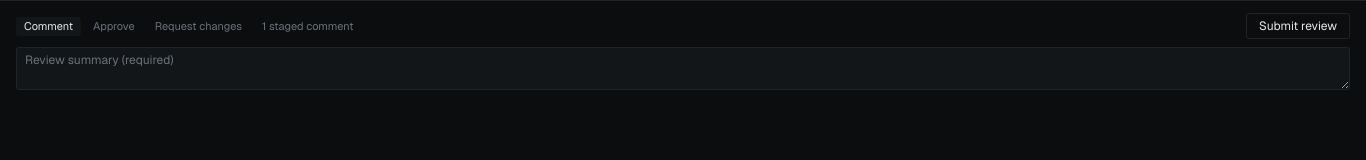
SubmitReviewBar › surfaces a submit failure without clearing intent
Step 1. Click the button "Submit review" → (1298, 26), box x1=1246 y1=13 x2=1350 y2=39
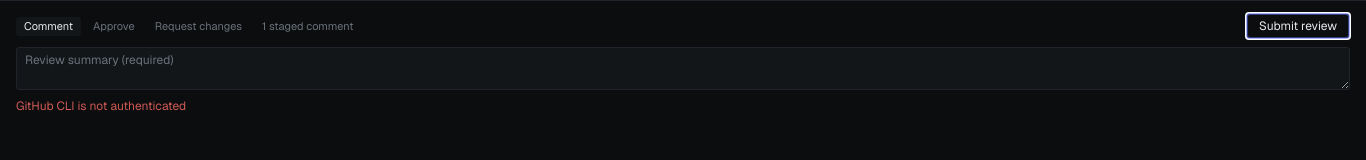
Now the message reads "GitHub CLI is not authenticated", box x1=16 y1=98 x2=186 y2=114
